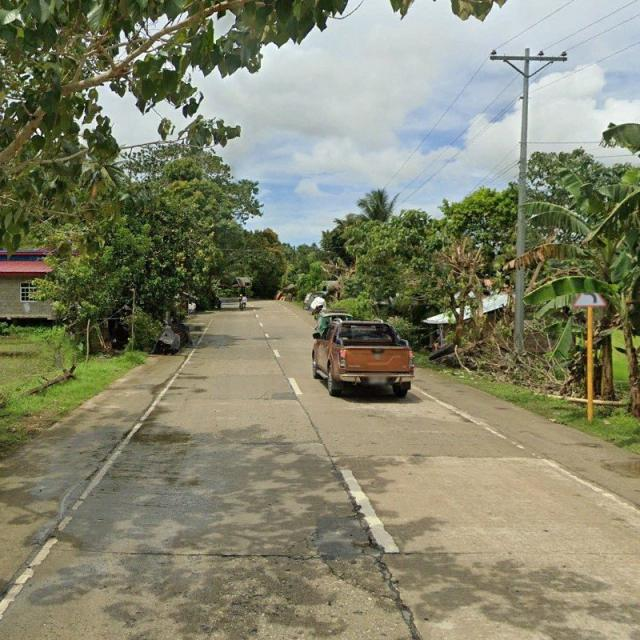warn_left_curve: (572, 277, 607, 307)
